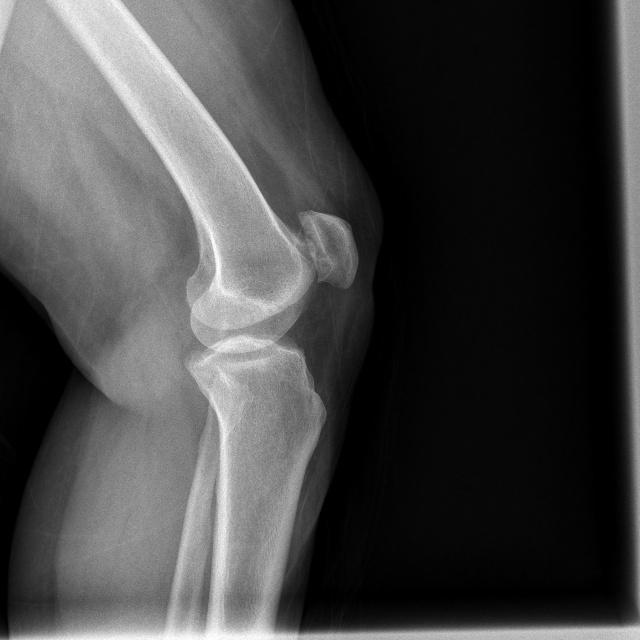Knee: (179, 202, 359, 410)
